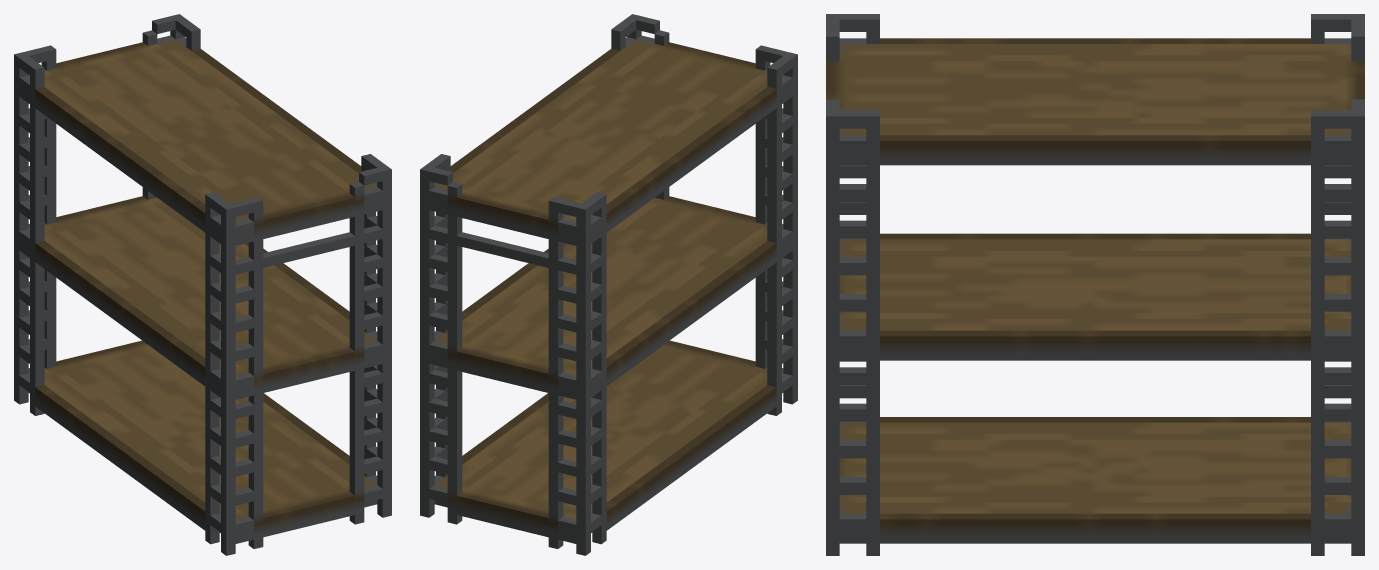
Rendered from Sorage_Shelf_00.fbx.
The picture shows the model from 3 angles, left to right: view 1: azimuth 30°, elevation 25°; view 2: azimuth 150°, elevation 25°; view 3: azimuth 270°, elevation 25°; orthographic projection. The views are drawn at different scales.
Parts seen in each view (by area): view 1: Sorage_Shelf_00; view 2: Sorage_Shelf_00; view 3: Sorage_Shelf_00.
Boxes of the visible parts, x1,y1,x2,y2 form: Sorage_Shelf_00: (14,14,391,555); Sorage_Shelf_00: (420,14,797,555); Sorage_Shelf_00: (826,14,1364,555).
Bounding box in the file's own units: 90 × 180 × 200.
